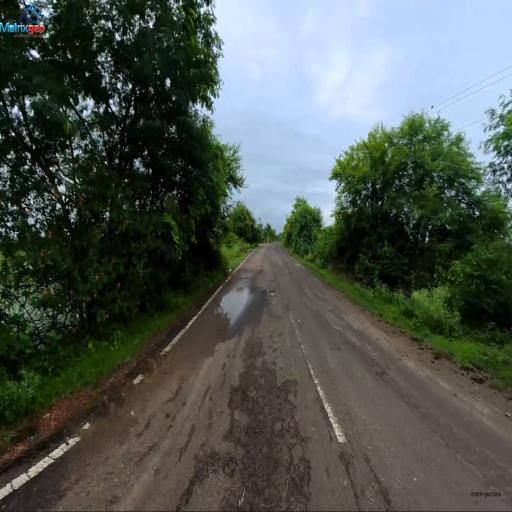longitudinal_crack: (333, 443, 400, 505)
ravelling: (218, 343, 309, 497)
